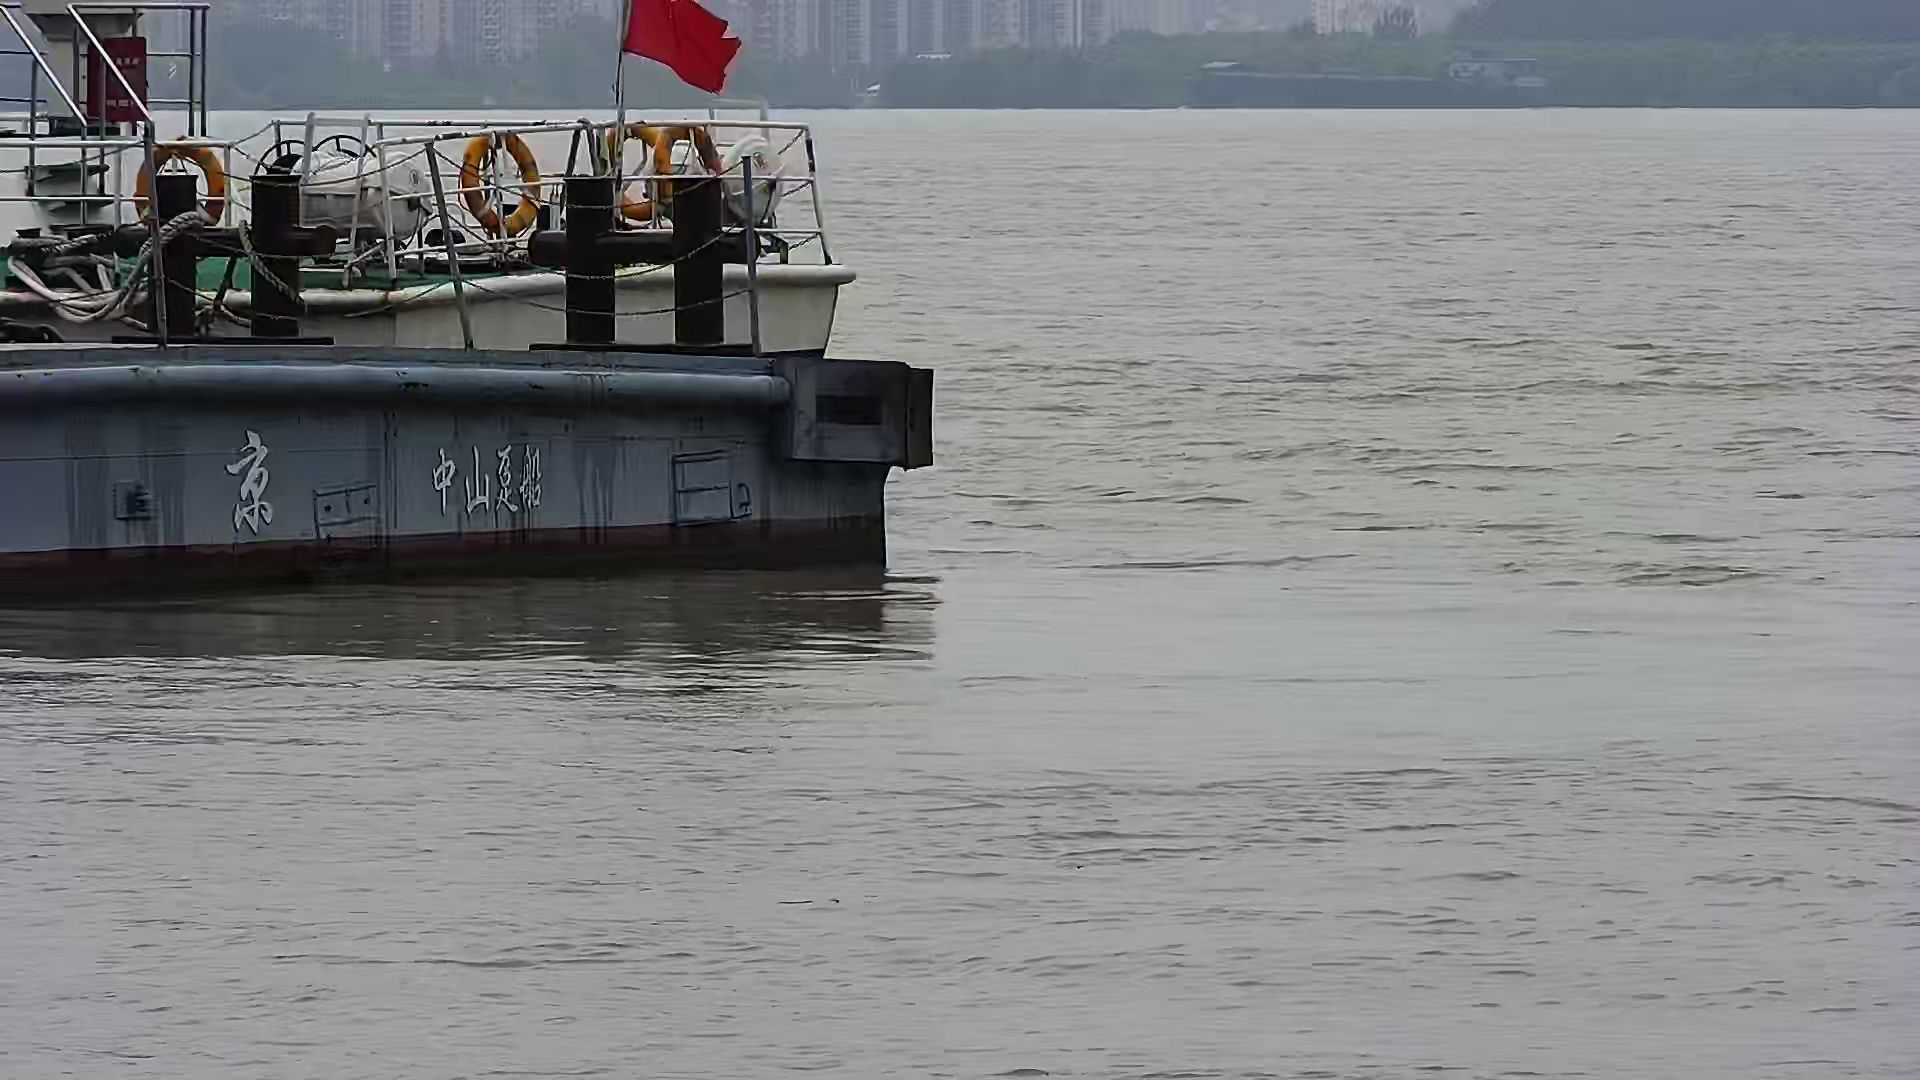ship: (1, 1, 936, 572), (1176, 47, 1559, 109)
